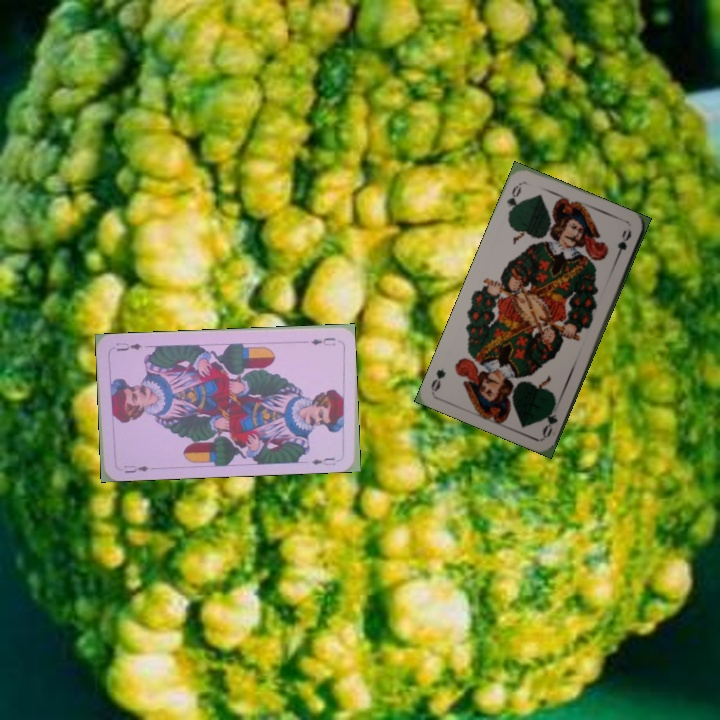EU: (120, 461, 152, 476), (306, 333, 338, 347)
GO: (538, 398, 560, 440), (502, 179, 524, 219)
